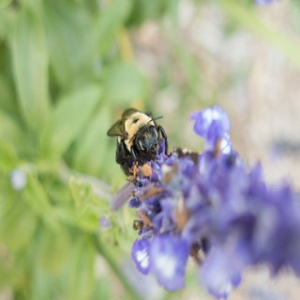bee: (109, 108, 170, 176)
